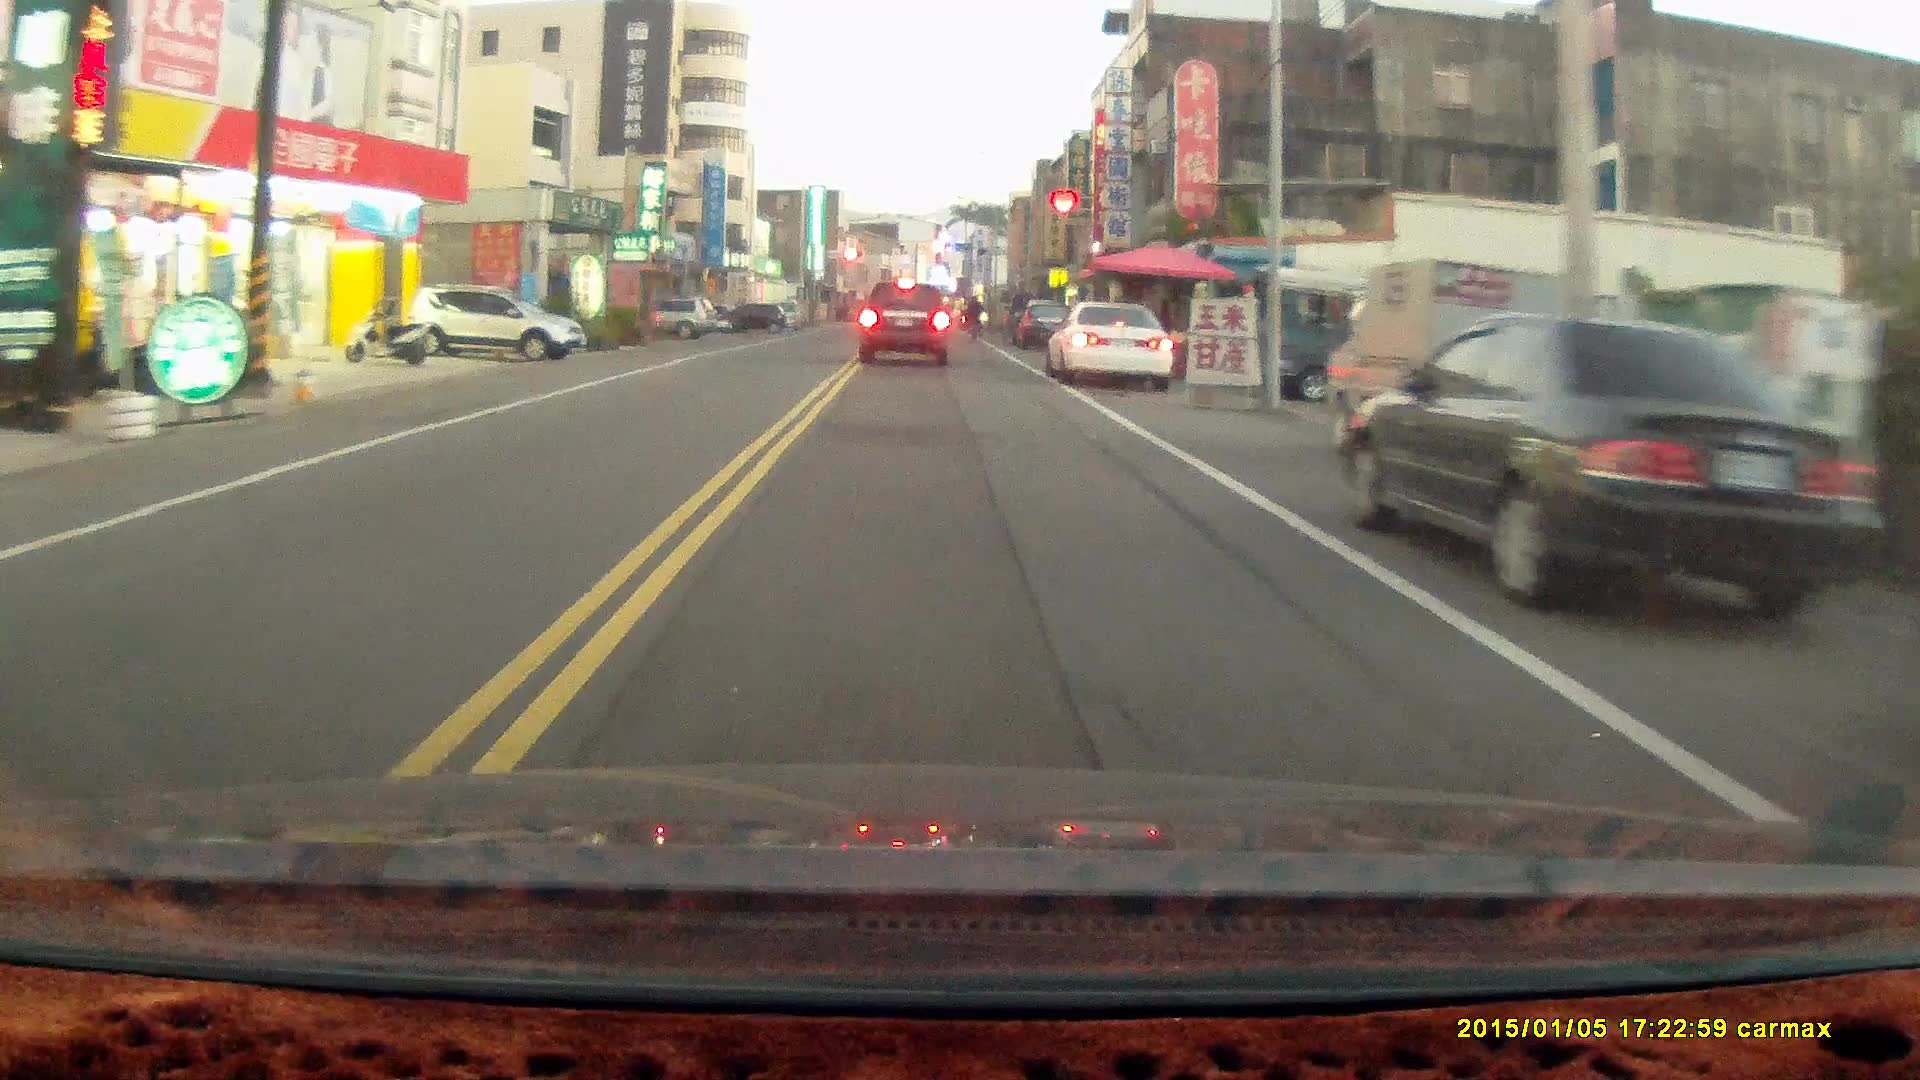vehicle: (1337, 311, 1894, 621), (1329, 252, 1573, 431), (404, 281, 583, 363), (1044, 301, 1176, 396), (858, 277, 951, 368)
